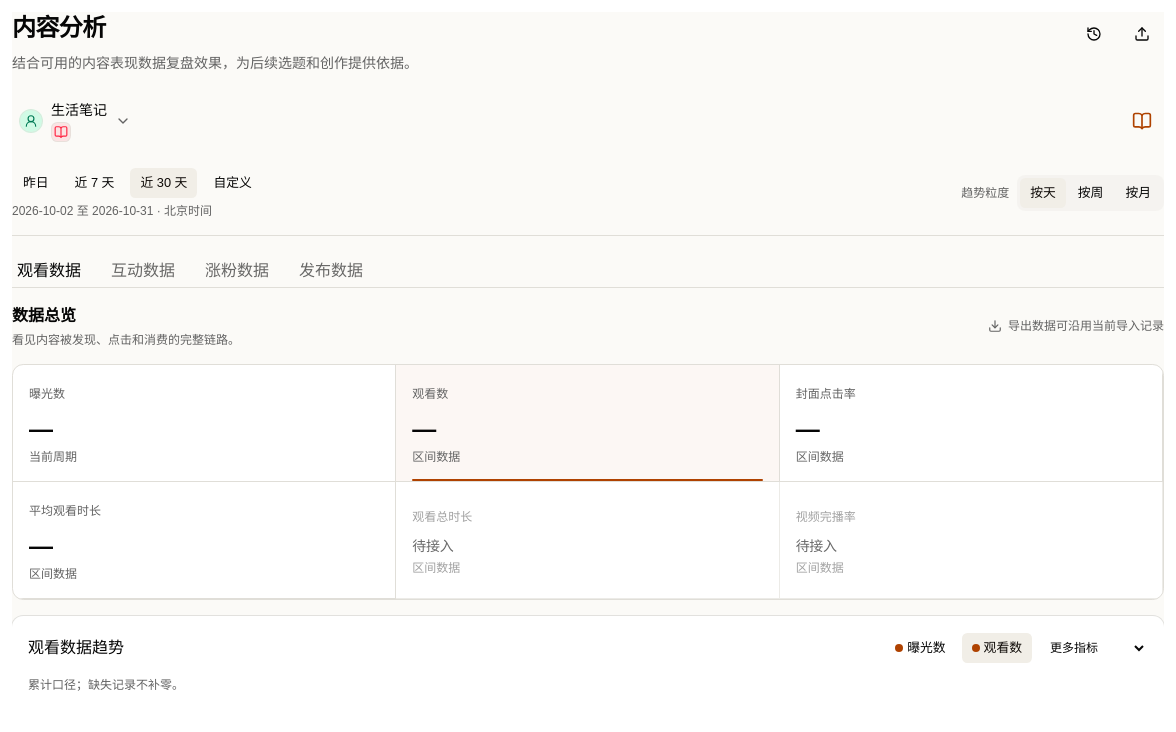
Scenario: server analytics queries › presents Seednote analytics in the four official analysis views
Expected: the tab "观看数据" is shown, [12,256,86,288]
Expected: the tab "互动数据" is shown, [106,256,180,288]
What coordinates should you click on to do the following:
click the tab "互动数据"
I would click on:
 (143, 271)
Its box is [106,249,180,293].
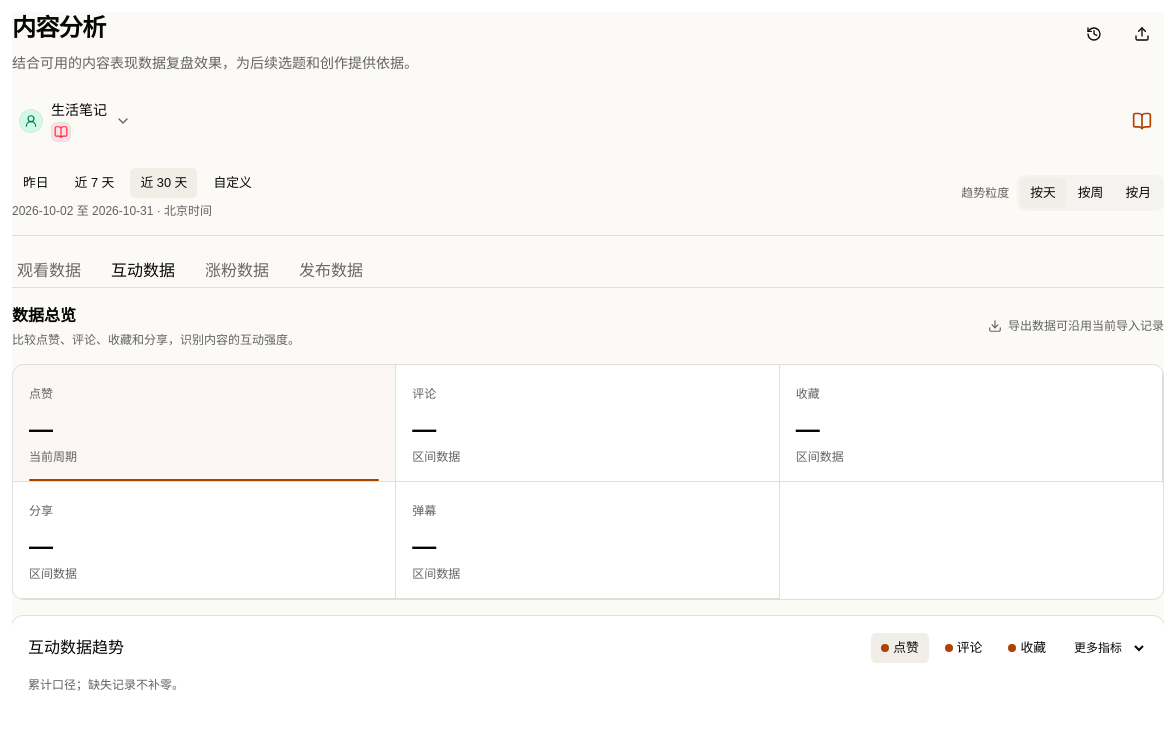
Expected: the element named "互动数据关键指标" shows "分享", [13,482,396,599]
